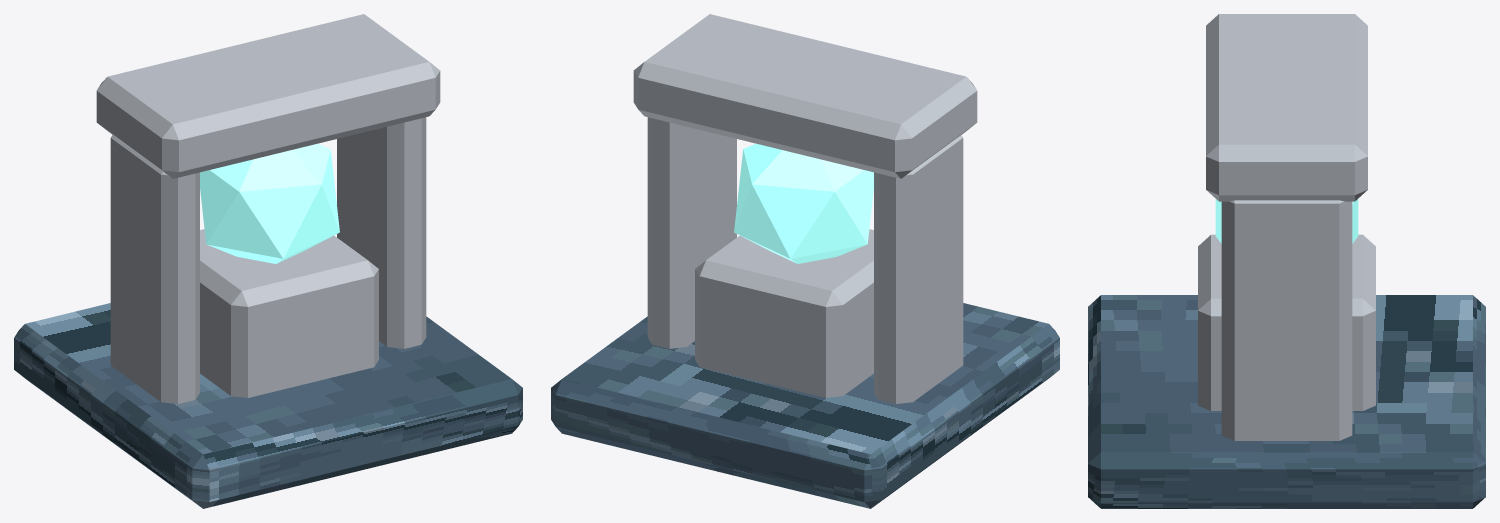
The model's file is relicario_solar.fbx.
3 renders of one model, left to right at view 1: azimuth 30°, elevation 25°; view 2: azimuth 150°, elevation 25°; view 3: azimuth 270°, elevation 25°, orthographic. The views are drawn at different scales.
Parts seen in each view (by area): view 1: novo_relicario_solar; view 2: novo_relicario_solar; view 3: novo_relicario_solar.
Boxes of the visible parts, x1,y1,x2,y2 form: novo_relicario_solar: (14,14,522,508); novo_relicario_solar: (551,14,1059,508); novo_relicario_solar: (1088,14,1485,508).
Bounding box in the file's own units: 0.76 × 0.74 × 0.76.
